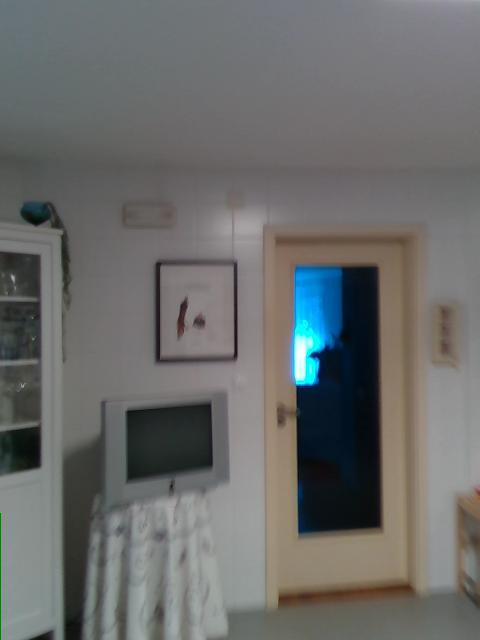door: (263, 226, 426, 608)
